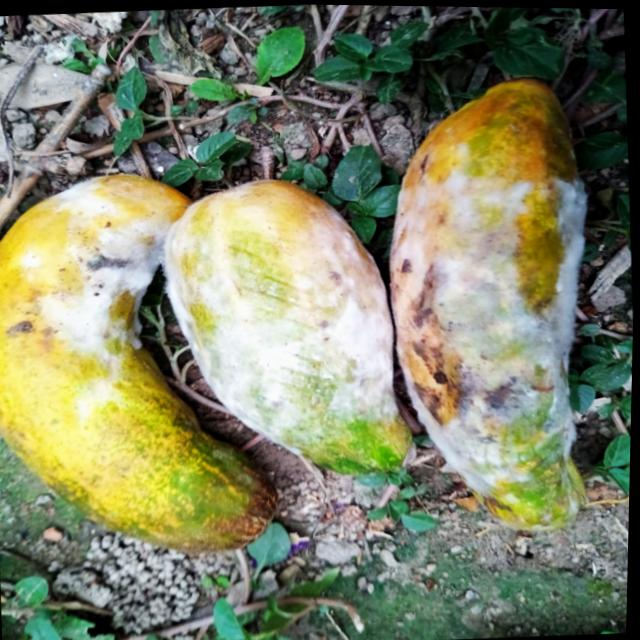Pythium-Fruit-Rot: (380, 142, 607, 533), (158, 172, 406, 459), (15, 172, 189, 411)
